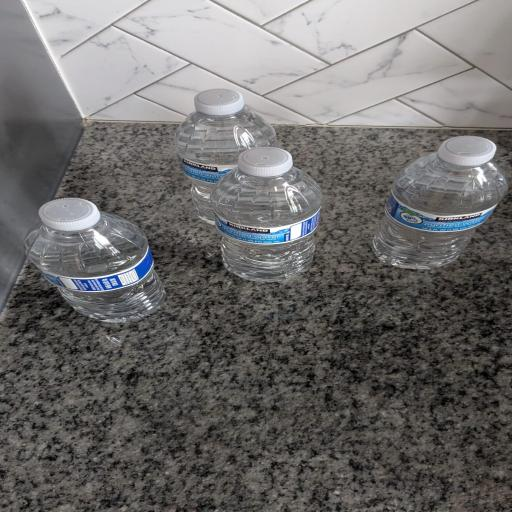waterbottle: (373, 137, 507, 269), (25, 199, 165, 322), (212, 148, 322, 281), (175, 89, 276, 224)
